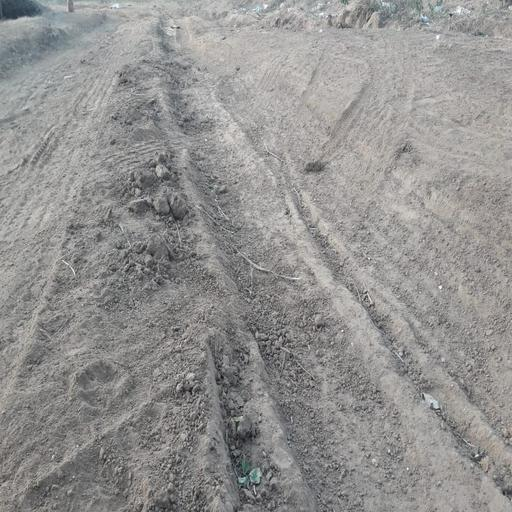vehicle_track: (164, 37, 512, 512), (0, 32, 147, 418)
